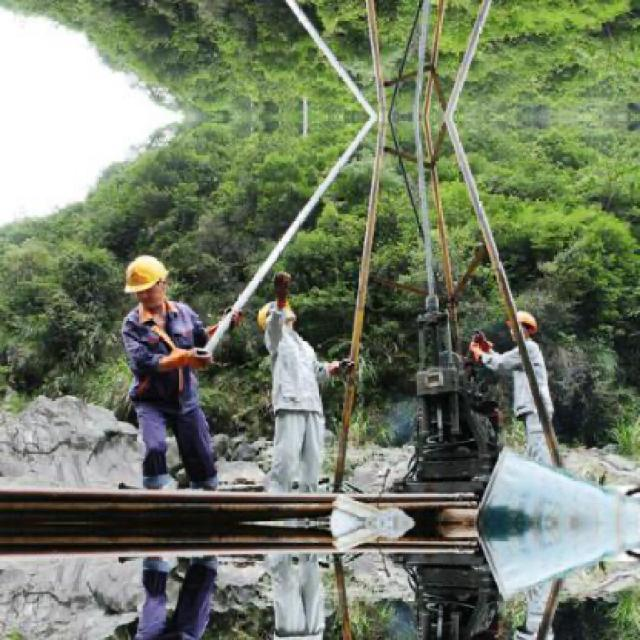helmet: (123, 248, 172, 306), (255, 292, 300, 330), (508, 308, 543, 342)
